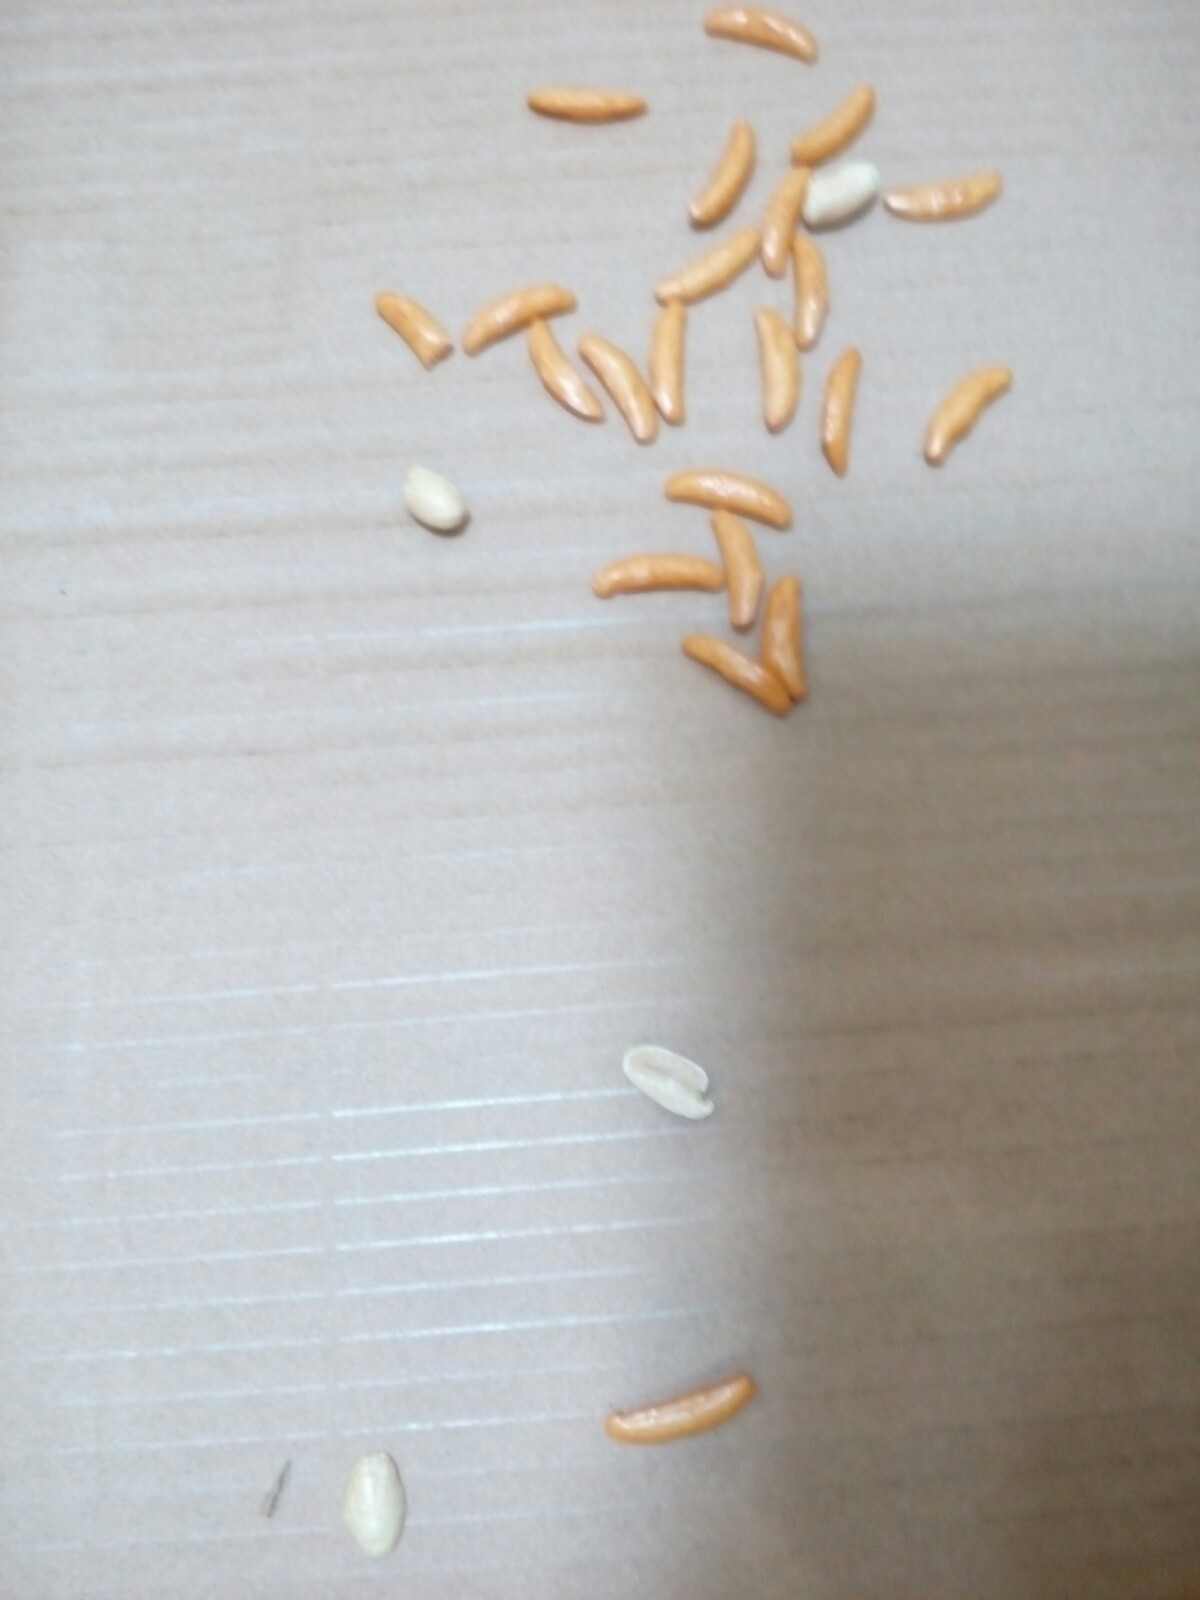peanut: (601, 1027, 731, 1129), (345, 1444, 416, 1557), (392, 449, 471, 546), (795, 163, 894, 233)
